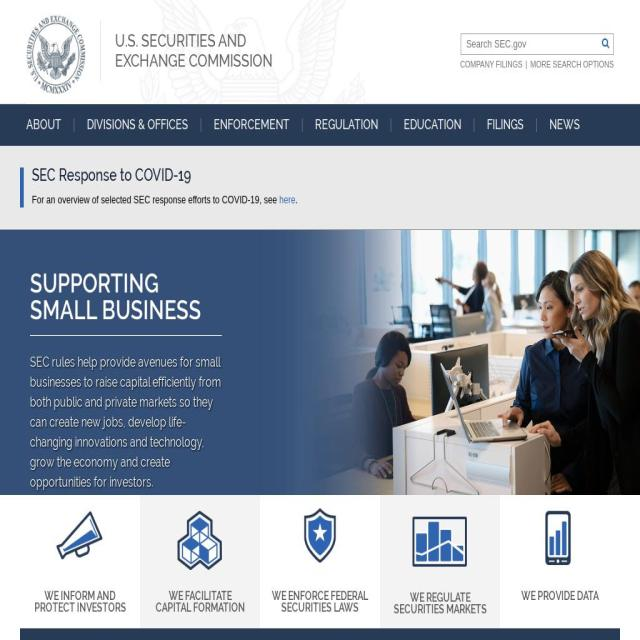button: (380, 494, 500, 628), (20, 494, 140, 627), (140, 494, 260, 627), (260, 494, 380, 627), (500, 494, 620, 615), (101, 21, 293, 81), (26, 15, 86, 94), (75, 118, 202, 132), (202, 118, 302, 132), (303, 118, 392, 132), (392, 118, 474, 132), (474, 118, 537, 132), (537, 118, 592, 132), (26, 118, 74, 132)
field: (461, 33, 614, 55), (598, 33, 614, 55)
image: (0, 229, 640, 495), (26, 15, 86, 94), (409, 507, 471, 575), (49, 508, 111, 574), (169, 508, 231, 574), (289, 508, 351, 574), (529, 508, 591, 574)
label: (466, 39, 526, 50)
link: (530, 59, 614, 69), (460, 59, 531, 69), (278, 192, 296, 206)
text: (30, 269, 159, 501), (30, 352, 222, 492), (32, 168, 620, 184), (20, 581, 140, 627), (140, 581, 260, 627), (260, 581, 380, 627), (380, 582, 500, 628), (30, 293, 201, 325), (500, 581, 620, 615), (32, 192, 279, 206), (295, 192, 297, 206)
